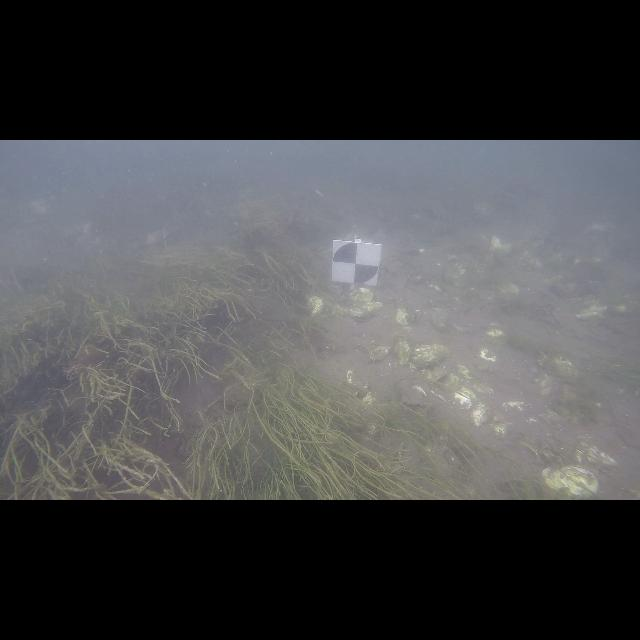Oyster-Closed: (541, 466, 599, 498), (575, 442, 616, 466), (412, 344, 449, 368), (422, 362, 450, 385), (346, 370, 369, 391), (454, 388, 476, 409), (476, 349, 496, 372), (491, 415, 510, 439), (305, 294, 325, 316), (351, 288, 374, 307), (395, 336, 410, 365), (471, 404, 488, 426), (368, 346, 390, 360), (395, 306, 409, 326), (456, 365, 472, 380), (502, 401, 526, 411), (486, 329, 504, 338)
Oyster-Open: (349, 301, 382, 322), (401, 385, 428, 410), (409, 309, 419, 325)
